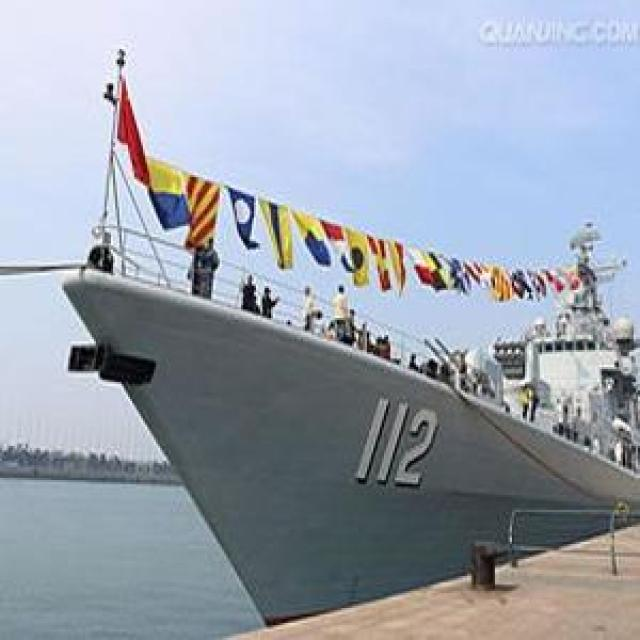navalvessels: (59, 210, 640, 615)
